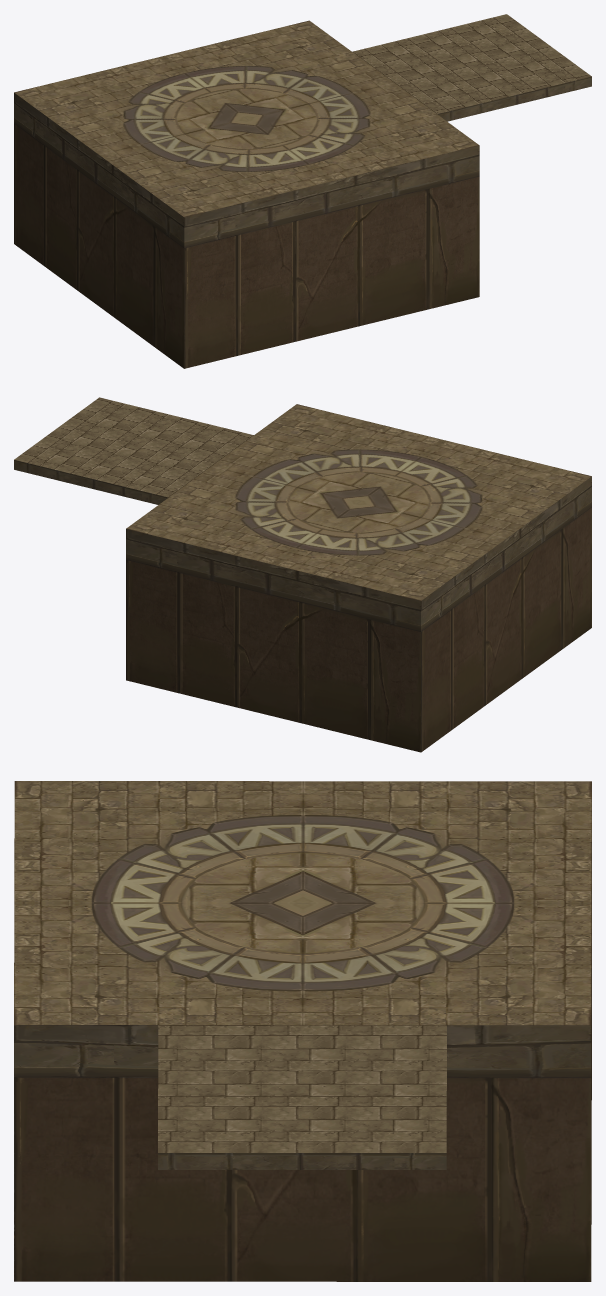
File: Battle04_Table_04.FBX
3 renders of one model, top to bottom at view 1: azimuth 30°, elevation 25°; view 2: azimuth 150°, elevation 25°; view 3: azimuth 270°, elevation 25°, orthographic. The views are drawn at different scales.
Parts seen in each view (by area): view 1: Battle04_Table_04_02, Battle04_Table_04_01, Battle04_Table_04_03; view 2: Battle04_Table_04_02, Battle04_Table_04_01, Battle04_Table_04_03; view 3: Battle04_Table_04_01, Battle04_Table_04_02, Battle04_Table_04_03.
Part boxes in pixels (box(x1,y1,x2,y2)): Battle04_Table_04_02: box(14, 76, 591, 368); Battle04_Table_04_01: box(14, 20, 479, 217); Battle04_Table_04_03: box(352, 14, 591, 113); Battle04_Table_04_02: box(14, 460, 591, 752); Battle04_Table_04_01: box(126, 404, 591, 600); Battle04_Table_04_03: box(14, 397, 253, 497); Battle04_Table_04_01: box(14, 781, 591, 1025); Battle04_Table_04_02: box(14, 843, 591, 1281); Battle04_Table_04_03: box(158, 1025, 446, 1152).
Size of the model in its own units: 33.74 by 10.85 by 22.15.
